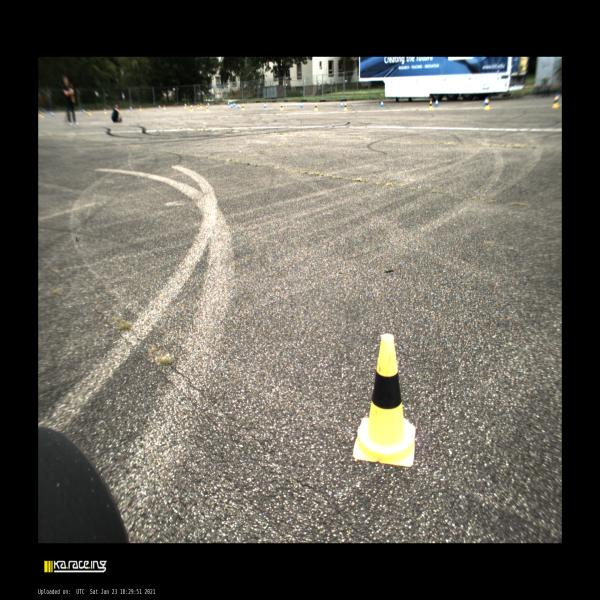blue_cone: (435, 99, 439, 107), (380, 100, 384, 108), (484, 98, 488, 106), (340, 101, 344, 108), (237, 102, 240, 109), (300, 102, 303, 108), (264, 102, 266, 108), (233, 101, 235, 107), (230, 103, 232, 108), (228, 101, 230, 106), (83, 109, 85, 114), (51, 111, 53, 116), (130, 106, 132, 110), (207, 102, 209, 106), (159, 105, 160, 109), (186, 104, 186, 107)
yellow_cone: (354, 334, 416, 466), (551, 96, 560, 109), (428, 101, 433, 110), (343, 102, 348, 110), (486, 101, 490, 110), (314, 104, 318, 111), (280, 103, 283, 111), (241, 104, 245, 110), (40, 112, 44, 118), (205, 105, 208, 112), (190, 105, 193, 112), (197, 103, 200, 110), (104, 108, 107, 114), (200, 103, 203, 108), (89, 110, 91, 116), (140, 106, 142, 111), (164, 105, 166, 110), (184, 104, 186, 108)
